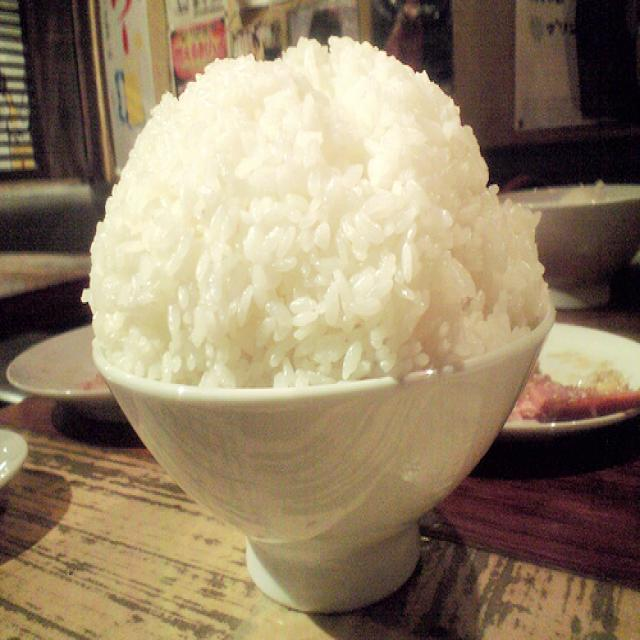rice: (83, 36, 550, 389)
